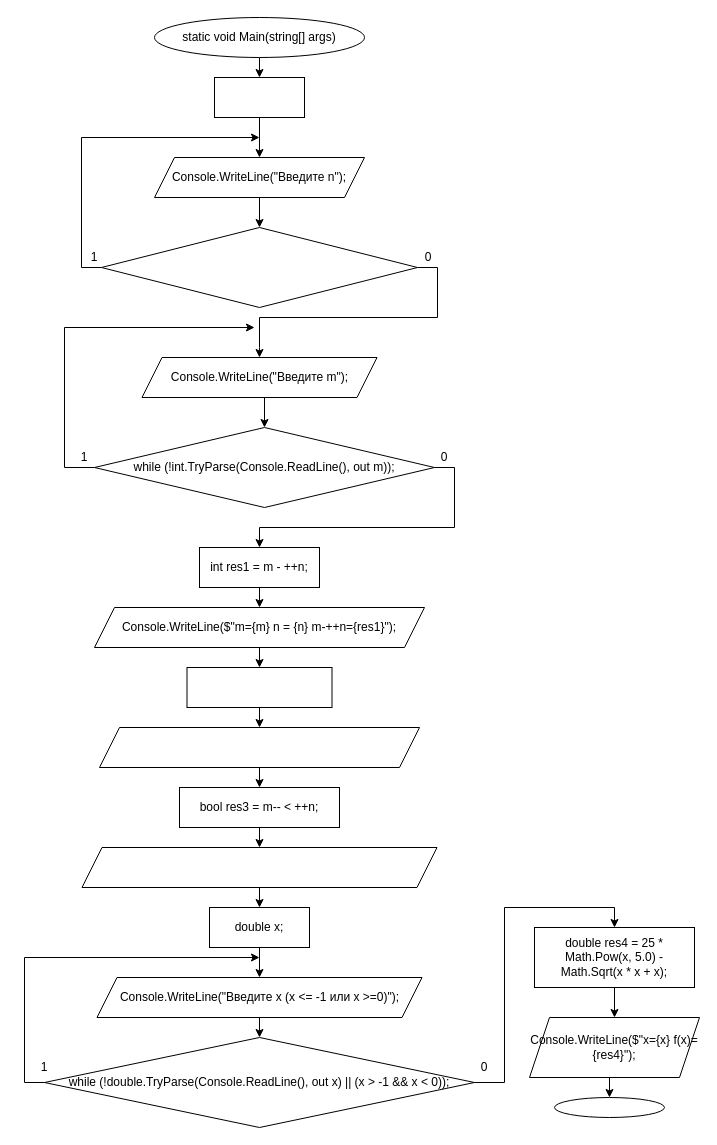
The diagram is 717 pixels wide and 1145 high, and some of its shapes have lost their labels. The shapes that lost their labels are listed below. From the top down, each one's centre as x and y in pixels, then its label:
point 259,97: int n, m;
point 259,267: while (!int.TryParse(Console.ReadLine(), out n));
point 259,687: bool res2 = m++ > --n;
point 259,747: Console.WriteLine($"m={m} n = {n} m++>--n={res2}");
point 259,867: Console.WriteLine($"m={m} n = {n} m--<++n={res3}");
point 609,1107: Конец
